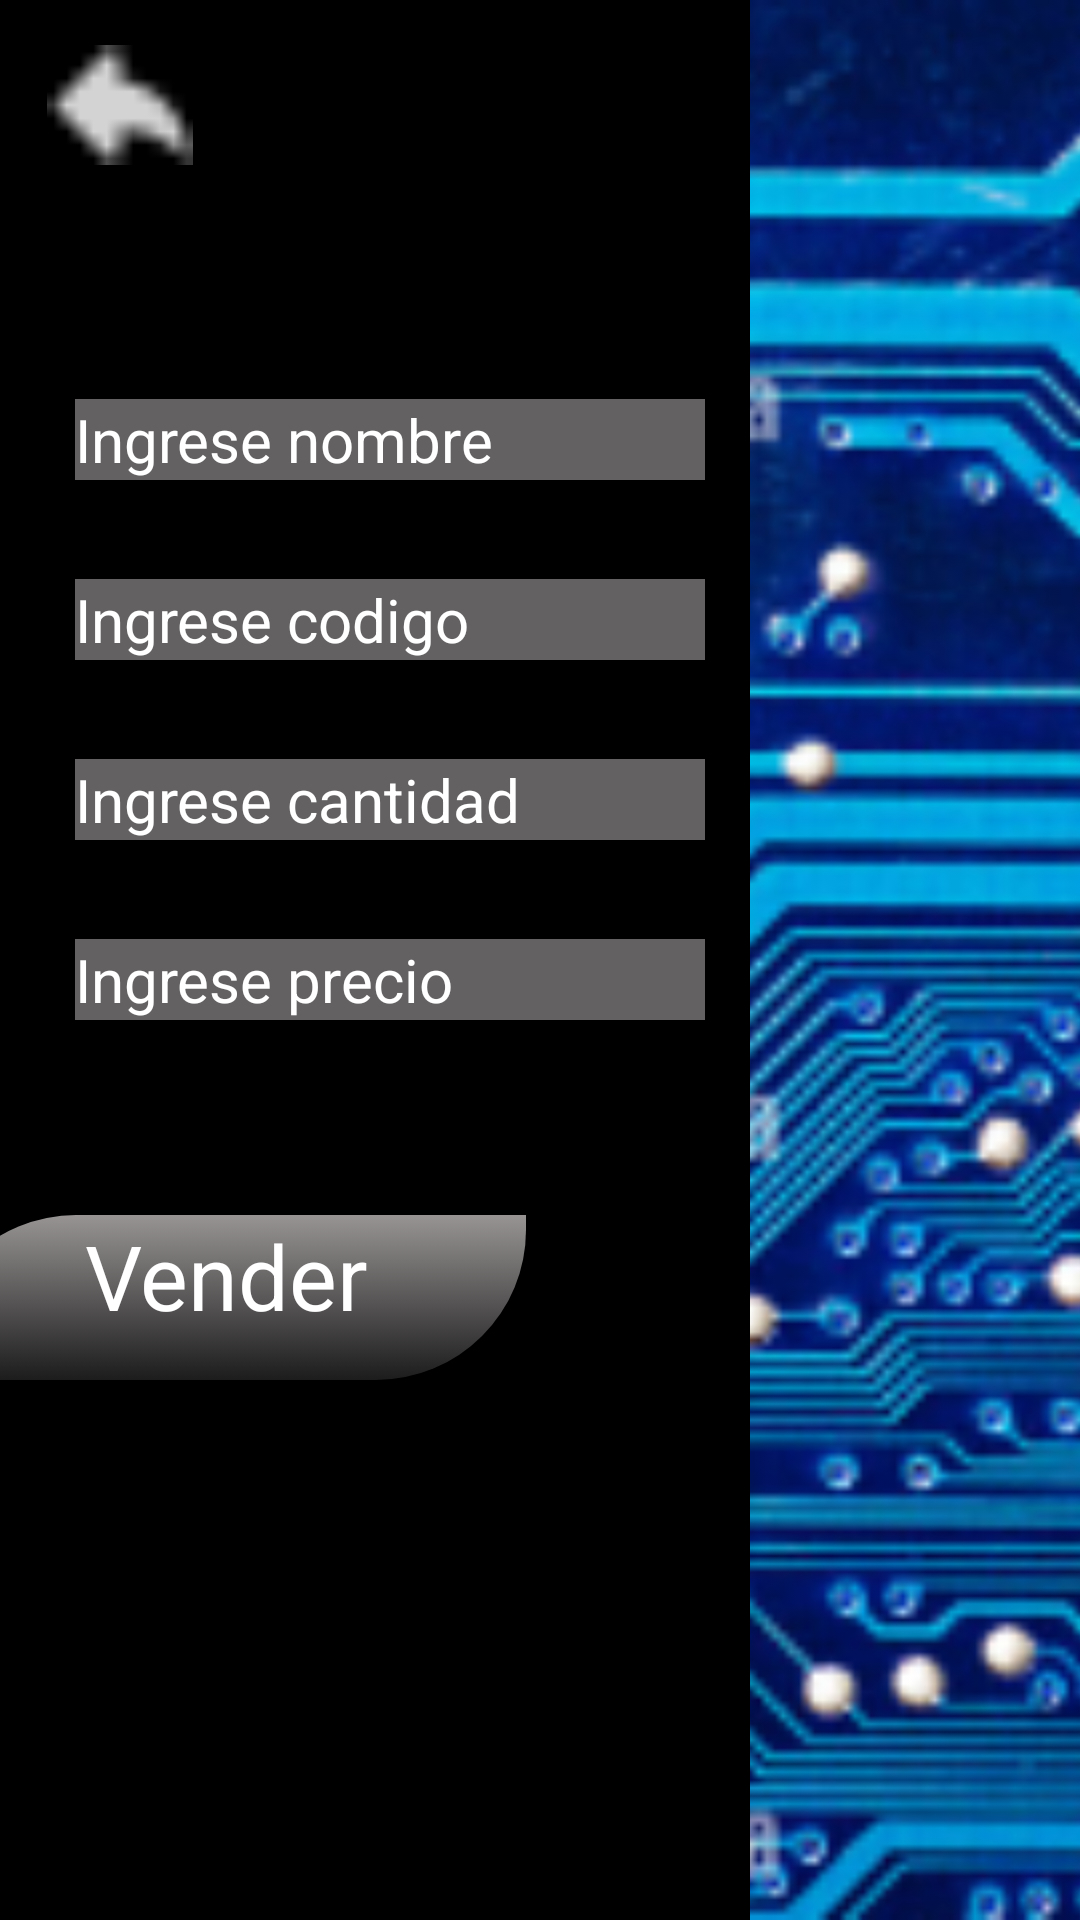

Icons on this 1080x1920 Android screen, each with the point to tap as (x=x, y=y):
flecha: (x=120, y=105)
